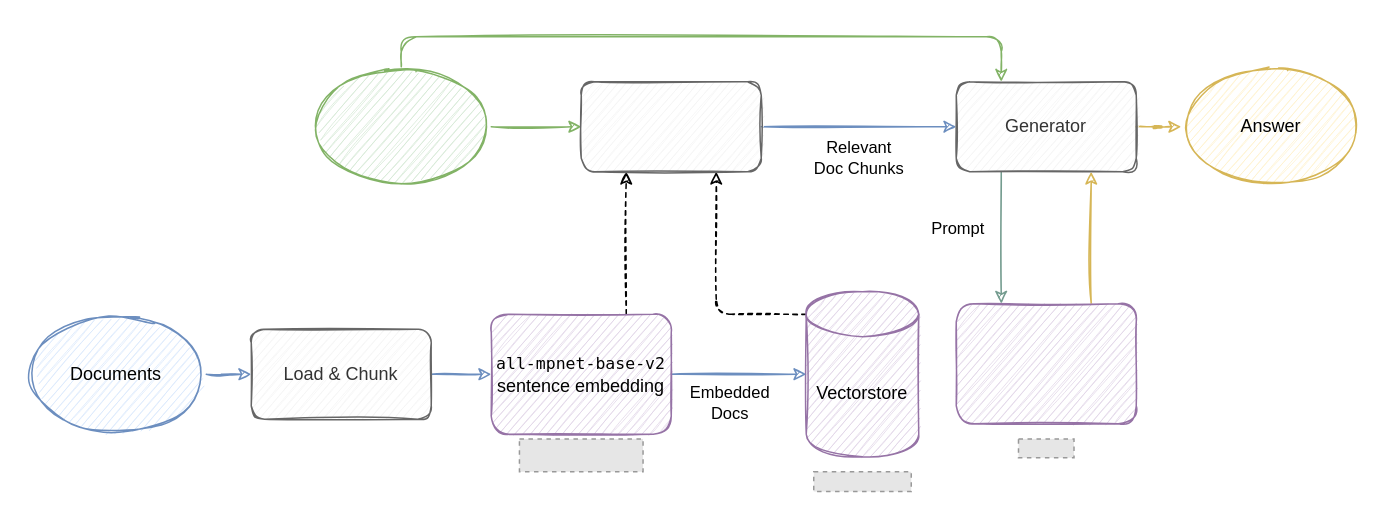
The diagram is 1388 pixels wide and 519 high, and some of its shapes have lost their labels. Grey dashed boxes stand in for pictures. The box of each missing label's shape, as (x1, y1, x2, y2) in pixels:
LLM Provider: (955, 302, 1136, 424)
Retriver: (580, 80, 761, 172)
User Query: (310, 65, 491, 187)
